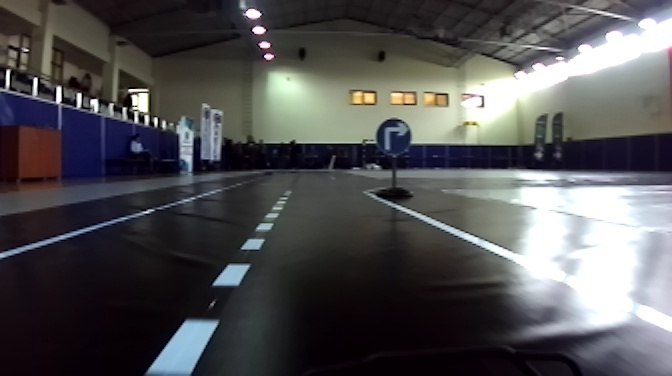saga_donus: (374, 118, 411, 153)
